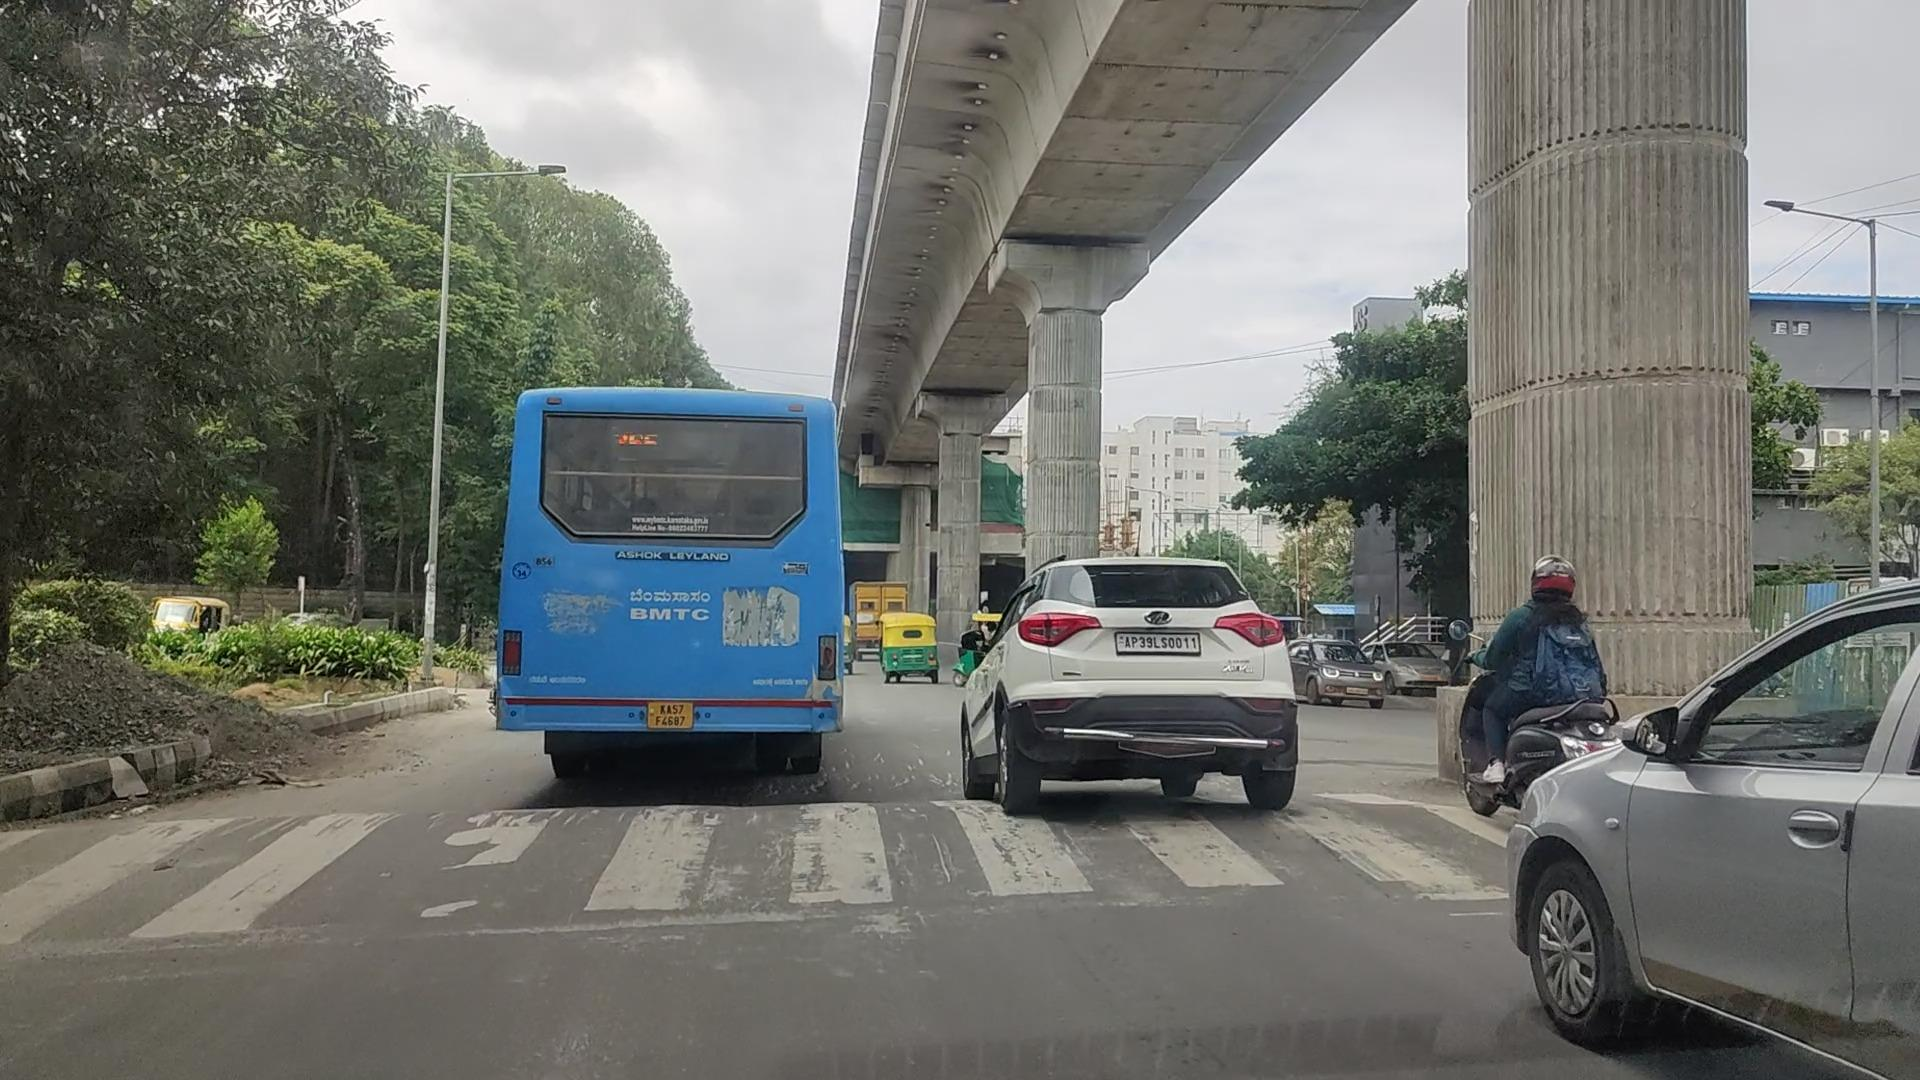LMV: (502, 382, 839, 752), (967, 549, 1296, 793)
SpeedBump: (26, 785, 1470, 936)
